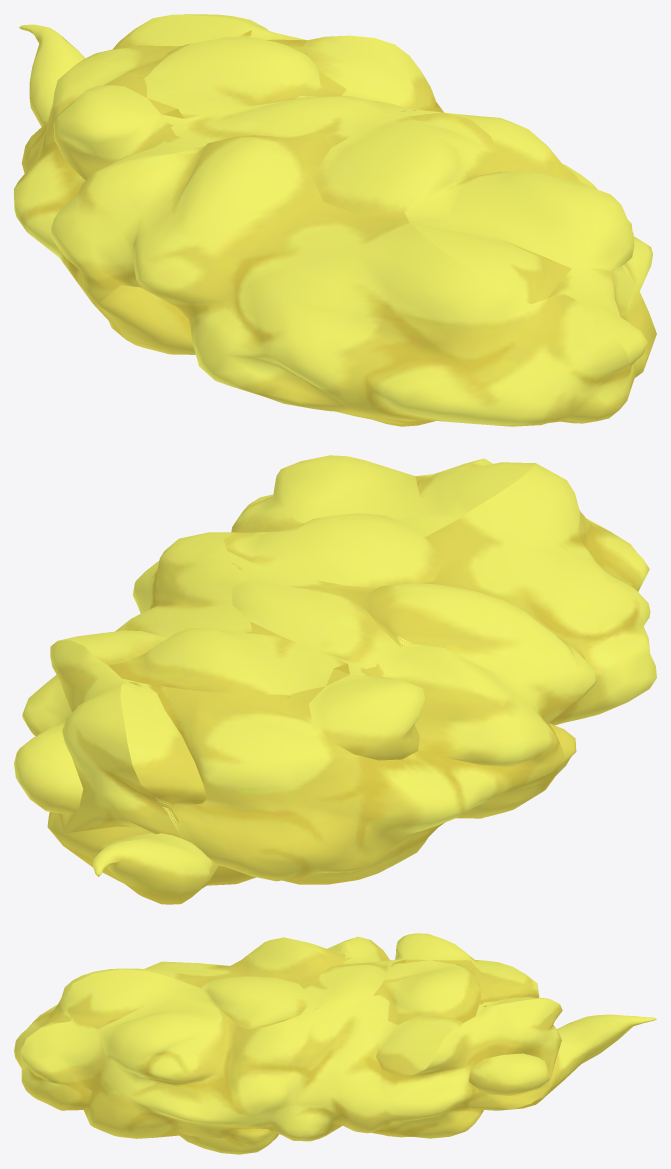
The model's file is board-lod0.glb.
3 views of the same model, one above another, from view 1: azimuth 30°, elevation 25°; view 2: azimuth 150°, elevation 25°; view 3: azimuth 270°, elevation 25° (orthographic). The views are drawn at different scales.
Visible parts, largest first — view 1: Object_2.001; view 2: Object_2.001; view 3: Object_2.001.
Boxes of the visible parts, x1,y1,x2,y2 form: Object_2.001: [14, 14, 656, 426]; Object_2.001: [14, 455, 656, 904]; Object_2.001: [14, 933, 656, 1154].
Size of the model in its own units: 1.35 by 0.6029 by 2.5.
1 material, 1 textured.
